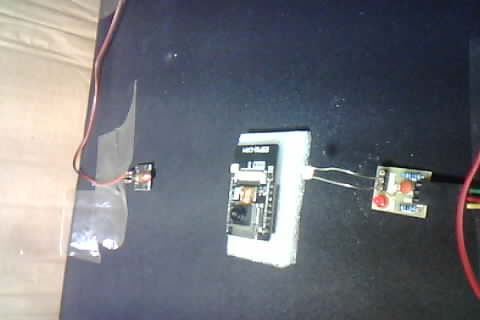esp32: (217, 130, 303, 263)
